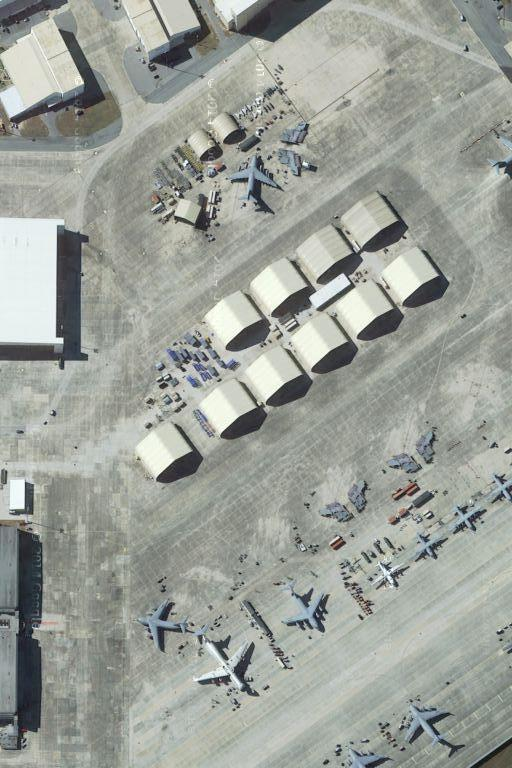C-130: (371, 554, 409, 592), (407, 531, 450, 564), (448, 501, 486, 536)
C-17: (131, 598, 196, 651), (228, 150, 280, 206), (398, 698, 453, 748), (281, 584, 332, 636)
E-8: (194, 631, 261, 693)
